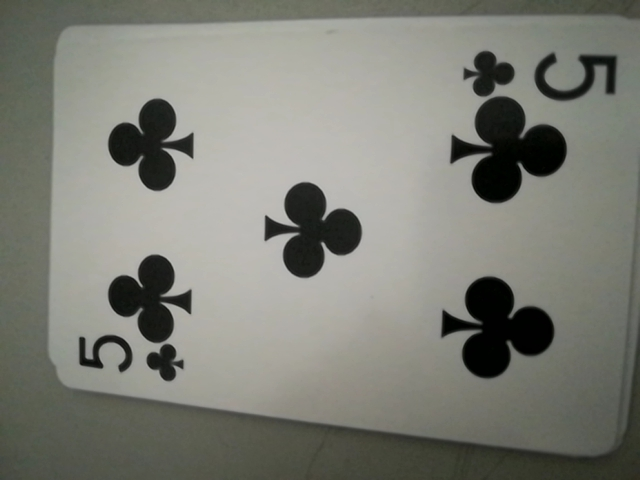mh 5: (460, 41, 623, 100), (71, 335, 196, 390)
